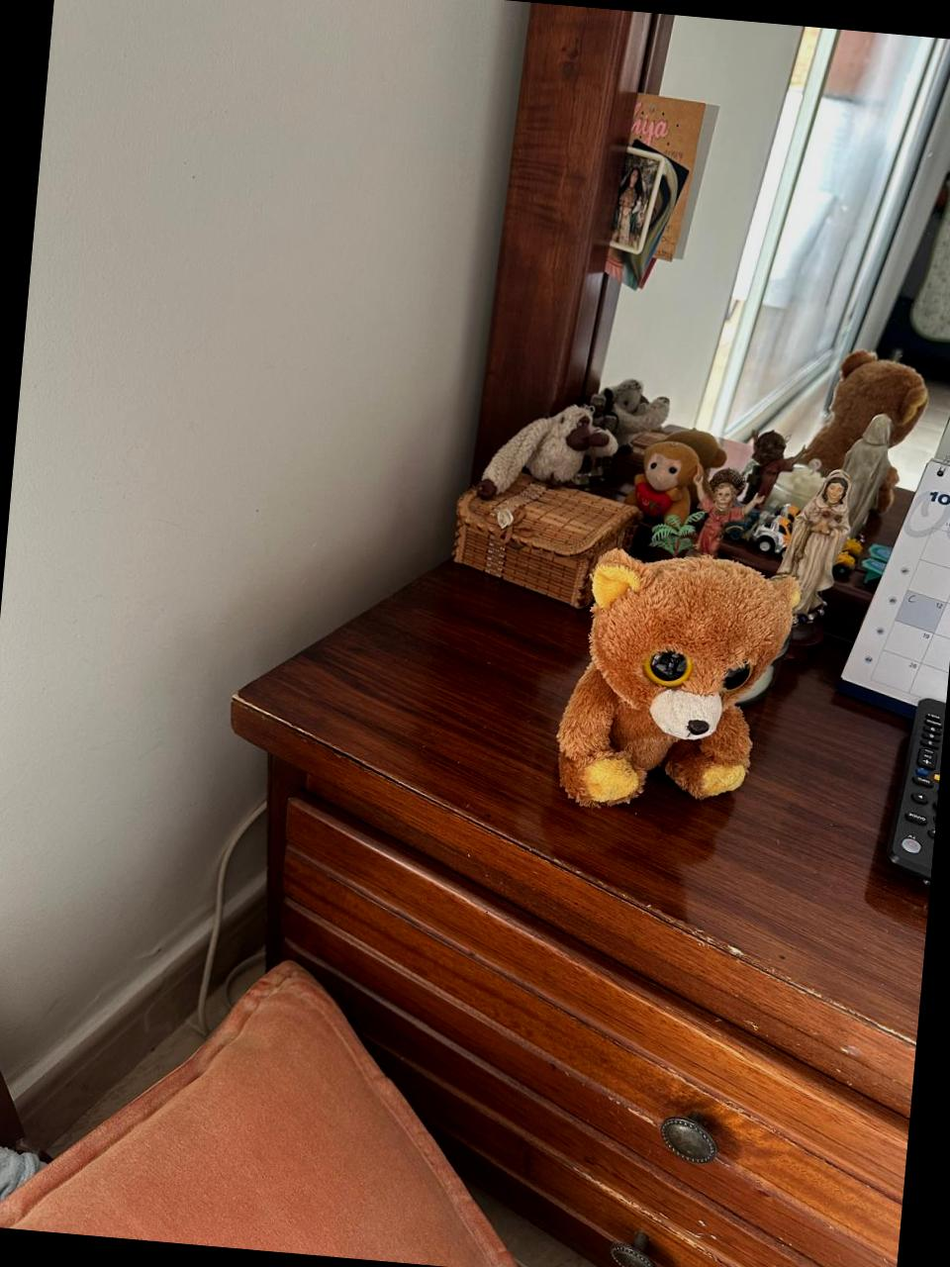peluche_sebastian: (541, 537, 809, 832)
